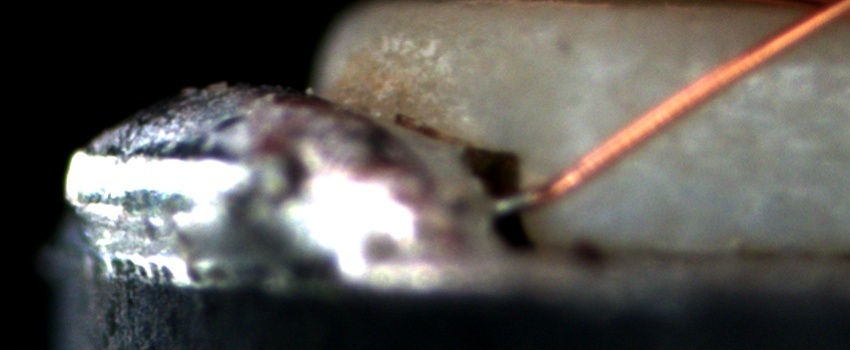DL: (629, 35, 849, 99)
TS: (490, 190, 537, 214)
